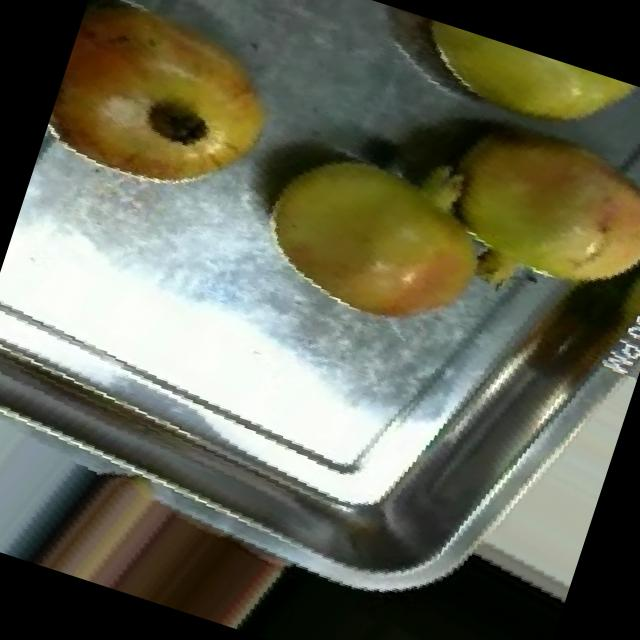fruit: (211, 101, 538, 386), (388, 77, 640, 356), (34, 0, 317, 242)
